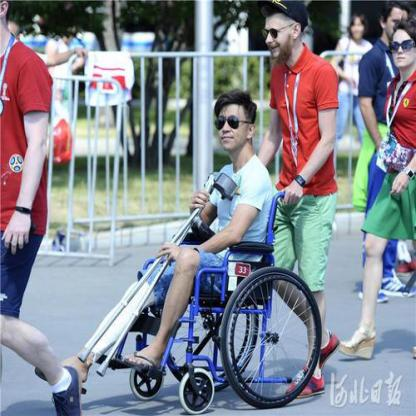wheelchair: (120, 85, 320, 415)
